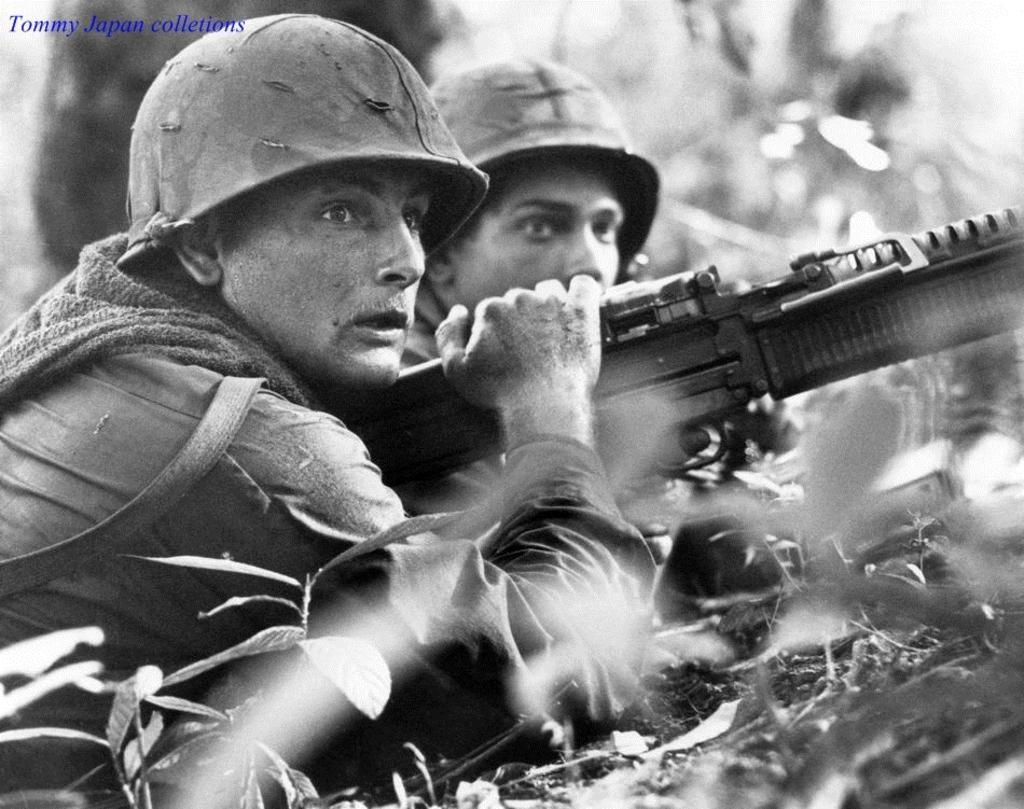Shotgun: (306, 198, 1023, 477)
